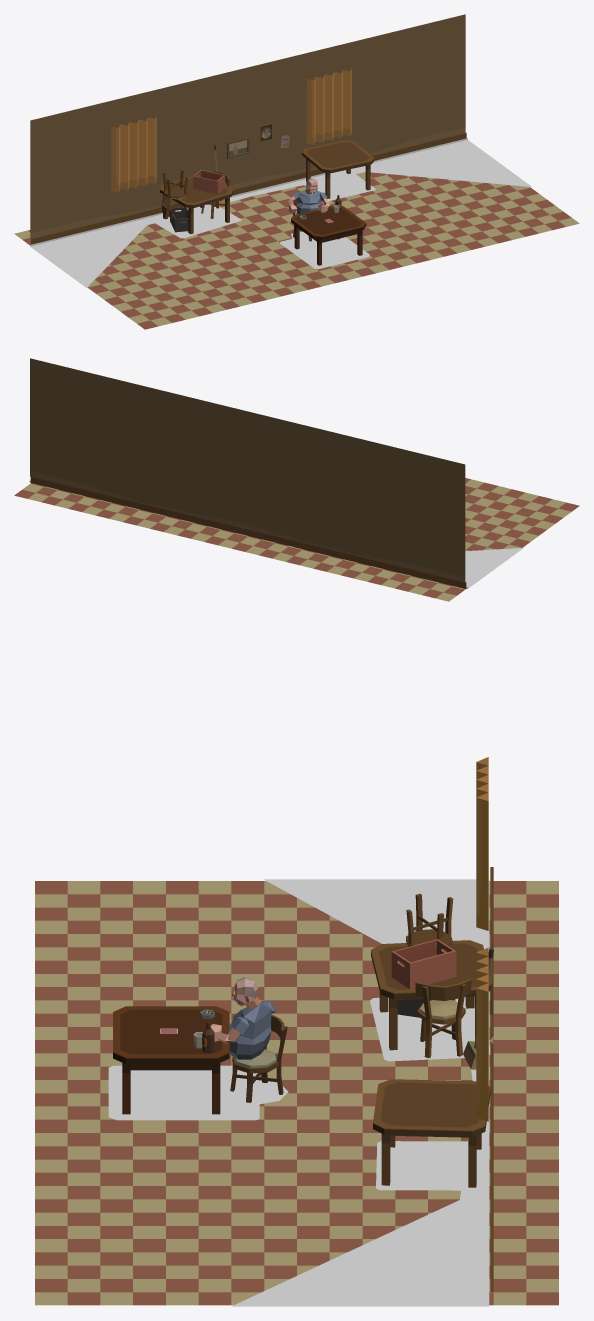
The model's file is Level01_Assets.fbx.
3 renders of one model, top to bottom at view 1: azimuth 30°, elevation 25°; view 2: azimuth 150°, elevation 25°; view 3: azimuth 270°, elevation 25°, orthographic. The views are drawn at different scales.
Parts seen in each view (by area): view 1: Mesh_BarWall01, Mesh_BarGround01, Mesh_BarShadows, Mesh_BarWindow, Mesh_BarWindow.001, Mesh_GameplayTable01, Mesh_BarTableBackground01.001, Mesh_GameplayGroundShadow, Mesh_BarTableBackground01, Mesh_Character01, Mesh_BarChairBackground01.001, Mesh_BarBox01 (+1 smaller); view 2: Mesh_BarWall01, Mesh_BarGround01, Mesh_BarShadows; view 3: Mesh_BarGround01, Mesh_BarShadows, Mesh_GameplayTable01, Mesh_GameplayGroundShadow, Mesh_BarTableBackground01.001, Mesh_BarTableBackground01, Mesh_Character01, Mesh_BarChairBackground01, Mesh_BarBox01, Mesh_BarWindow, Mesh_BarWindow.001, Mesh_GameplayChair01 (+2 smaller).
Boxes of the visible parts, x1,y1,x2,y2 form: Mesh_BarWall01: [30, 14, 466, 244]; Mesh_BarGround01: [14, 172, 579, 329]; Mesh_BarShadows: [30, 138, 532, 287]; Mesh_BarWindow: [306, 68, 351, 144]; Mesh_BarWindow.001: [111, 116, 156, 192]; Mesh_GameplayTable01: [291, 205, 366, 265]; Mesh_BarTableBackground01.001: [302, 140, 374, 198]; Mesh_GameplayGroundShadow: [280, 231, 369, 269]; Mesh_BarTableBackground01: [160, 175, 233, 233]; Mesh_Character01: [288, 178, 329, 213]; Mesh_BarChairBackground01.001: [161, 169, 188, 217]; Mesh_BarBox01: [193, 169, 225, 194]; Mesh_BarWall01: [30, 358, 466, 588]; Mesh_BarGround01: [14, 478, 579, 601]; Mesh_BarShadows: [29, 480, 523, 588]; Mesh_BarGround01: [35, 881, 558, 1305]; Mesh_BarShadows: [231, 879, 490, 1306]; Mesh_GameplayTable01: [113, 1006, 229, 1114]; Mesh_GameplayGroundShadow: [108, 1065, 288, 1120]; Mesh_BarTableBackground01.001: [373, 1079, 490, 1187]; Mesh_BarTableBackground01: [371, 940, 490, 1050]; Mesh_Character01: [210, 976, 275, 1059]; Mesh_BarChairBackground01: [415, 979, 471, 1058]; Mesh_BarBox01: [391, 939, 456, 989]; Mesh_BarWindow: [476, 947, 488, 1121]; Mesh_BarWindow.001: [476, 757, 488, 930]; Mesh_GameplayChair01: [230, 1015, 287, 1102].
Size of the model in its own units: 133 by 68.74 by 36.98.
